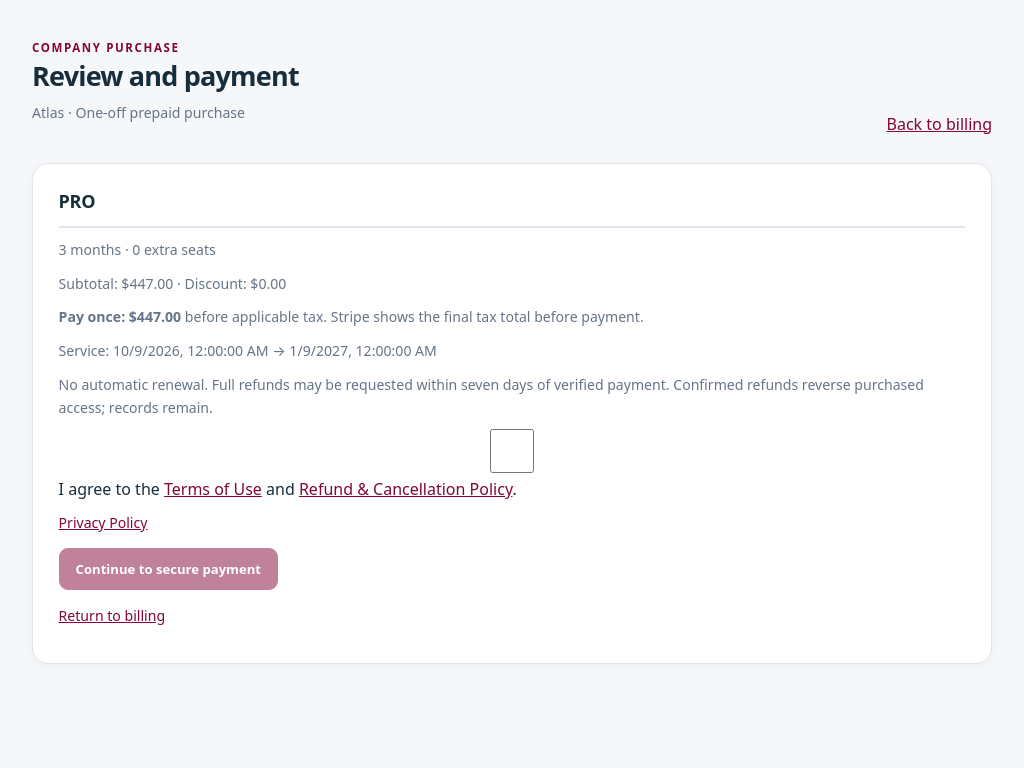
requires terms acceptance and preserves the review after a checkout failure
Expected: the button "Continue to secure payment" is disabled, [59,548,278,590]
Click the checkbox at (512, 451), box [59,429,965,473]
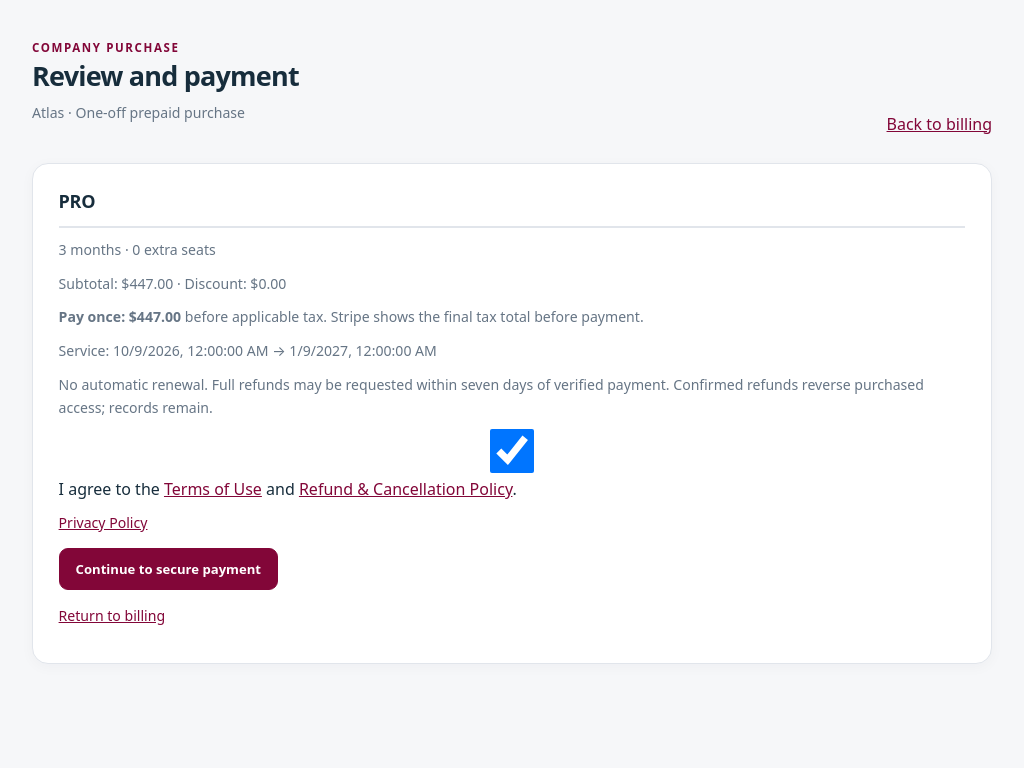
Click the button "Continue to secure payment" at (168, 569), box [59,548,278,590]
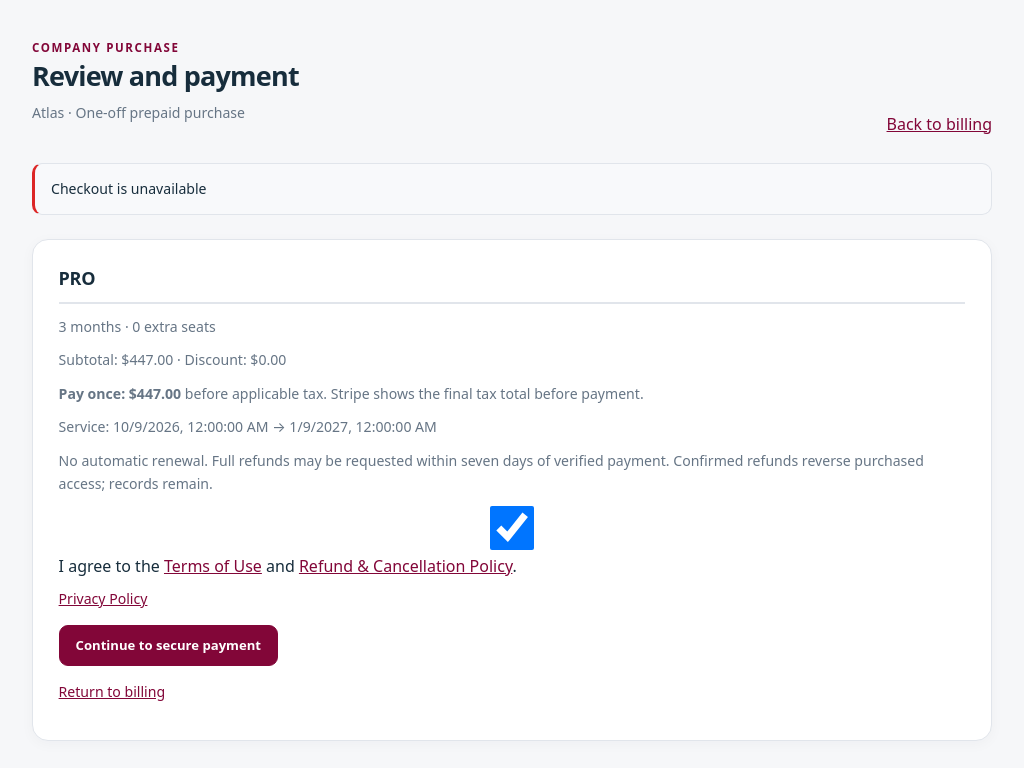
Expected: the message reads "Checkout is unavailable", [51,179,207,198]
